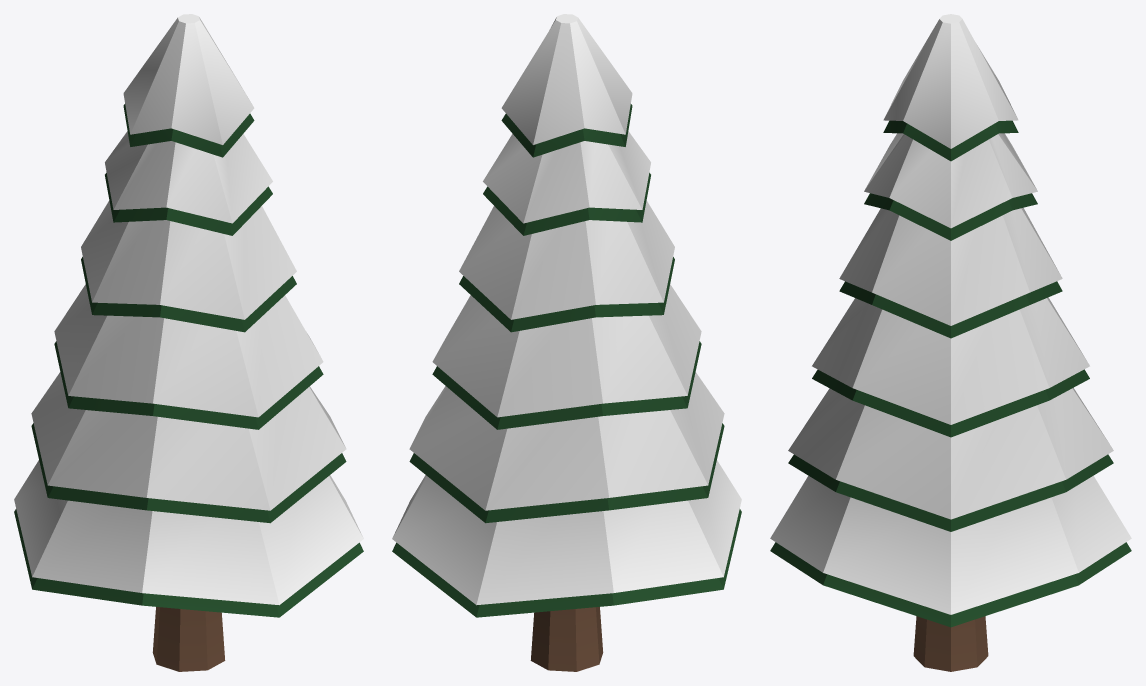
The model's file is obj_tree2_3.fbx.
The picture shows the model from 3 angles, left to right: view 1: azimuth 30°, elevation 25°; view 2: azimuth 150°, elevation 25°; view 3: azimuth 270°, elevation 25°; orthographic projection.
Visible parts, largest first — view 1: obj_tree2_3; view 2: obj_tree2_3; view 3: obj_tree2_3.
Boxes of the visible parts, x1,y1,x2,y2 form: obj_tree2_3: (14, 14, 363, 671); obj_tree2_3: (392, 14, 741, 671); obj_tree2_3: (770, 14, 1131, 671).
Bounding box in the file's own units: 2.24 × 4.35 × 2.24.
Materials: 1 (1 with a texture image).
